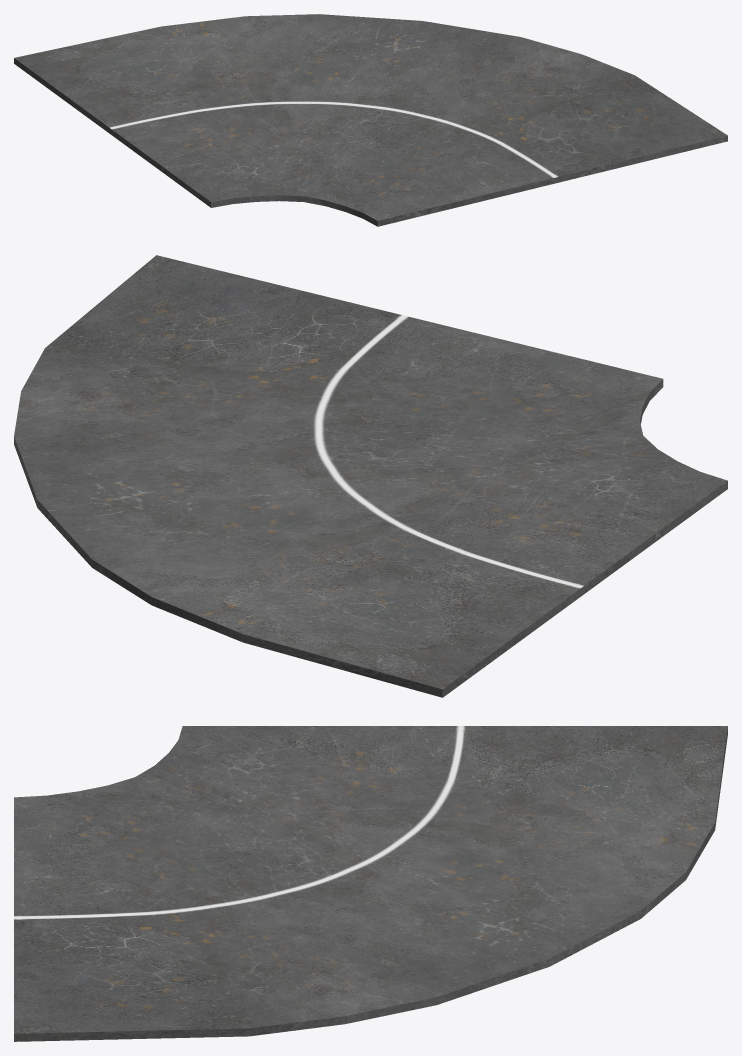
Rendered from Road_Curve_stretched.fbx.
The picture shows the model from 3 angles, top to bottom: view 1: azimuth 30°, elevation 25°; view 2: azimuth 150°, elevation 25°; view 3: azimuth 270°, elevation 25°; orthographic projection. The views are drawn at different scales.
Parts seen in each view (by area): view 1: Road_Curve; view 2: Road_Curve; view 3: Road_Curve.
Part boxes in pixels (left/top/right/bottom): Road_Curve: left=14, top=14, right=727, bottom=226; Road_Curve: left=14, top=255, right=727, bottom=697; Road_Curve: left=14, top=726, right=727, bottom=1041.
Bounding box in the file's own units: 7.52 × 0.0914 × 7.37.
